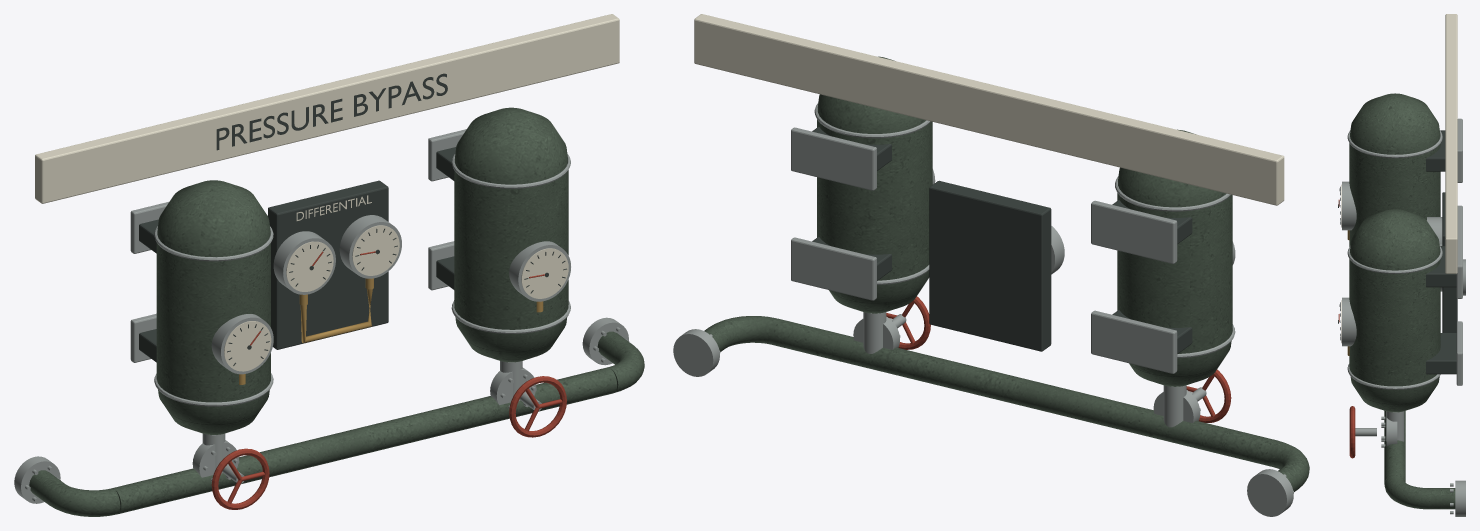
Rendered from pressure_manifold.glb.
3 renders of one model, left to right at view 1: azimuth 30°, elevation 25°; view 2: azimuth 150°, elevation 25°; view 3: azimuth 270°, elevation 25°, orthographic. The views are drawn at different scales.
Visible parts, largest first — view 1: pressure_manifold / transfer_green_enamel, pressure_manifold / transfer_instrument_ivory, pressure_manifold / transfer_galvanized, pressure_manifold / transfer_dark_steel, pressure_manifold / transfer_valve_red, pressure_manifold / transfer_bonded_brass; view 2: pressure_manifold / transfer_green_enamel, pressure_manifold / transfer_instrument_ivory, pressure_manifold / transfer_galvanized, pressure_manifold / transfer_dark_steel, pressure_manifold / transfer_valve_red; view 3: pressure_manifold / transfer_green_enamel, pressure_manifold / transfer_galvanized, pressure_manifold / transfer_instrument_ivory, pressure_manifold / transfer_dark_steel, pressure_manifold / transfer_valve_red.
Part boxes in pixels (<box>): pressure_manifold / transfer_green_enamel: <box>29,107,644,516</box>; pressure_manifold / transfer_instrument_ivory: <box>35,14,619,371</box>; pressure_manifold / transfer_galvanized: <box>14,129,629,503</box>; pressure_manifold / transfer_dark_steel: <box>139,73,566,365</box>; pressure_manifold / transfer_valve_red: <box>211,251,566,509</box>; pressure_manifold / transfer_bonded_brass: <box>239,278,543,384</box>; pressure_manifold / transfer_green_enamel: <box>704,56,1309,491</box>; pressure_manifold / transfer_instrument_ivory: <box>694,14,1284,205</box>; pressure_manifold / transfer_galvanized: <box>673,103,1293,516</box>; pressure_manifold / transfer_dark_steel: <box>812,126,1192,353</box>; pressure_manifold / transfer_valve_red: <box>886,296,1231,422</box>; pressure_manifold / transfer_green_enamel: <box>1349,93,1455,509</box>; pressure_manifold / transfer_galvanized: <box>1342,118,1465,516</box>; pressure_manifold / transfer_instrument_ivory: <box>1341,14,1457,343</box>; pressure_manifold / transfer_dark_steel: <box>1338,130,1457,374</box>; pressure_manifold / transfer_valve_red: <box>1338,199,1355,458</box>.
Bounding box in the file's own units: 3.68 × 2.02 × 0.84.
Materials: 6 (1 with a texture image).
